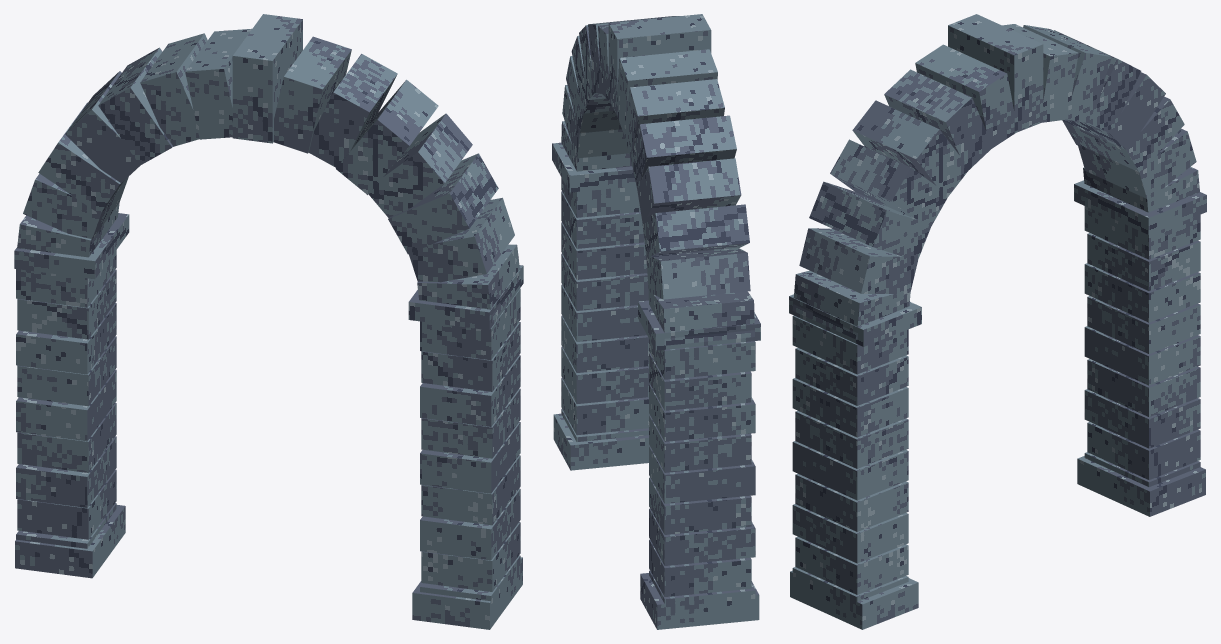
Rendered from ruinasArco.gltf.
The picture shows the model from 3 angles, left to right: view 1: azimuth 30°, elevation 25°; view 2: azimuth 150°, elevation 25°; view 3: azimuth 270°, elevation 25°; orthographic projection. The views are drawn at different scales.
Visible parts, largest first — view 1: ORN-03_Arco_de_medio_punto.020-col; view 2: ORN-03_Arco_de_medio_punto.020-col; view 3: ORN-03_Arco_de_medio_punto.020-col.
Boxes of the visible parts, bbox=[...] form: ORN-03_Arco_de_medio_punto.020-col: bbox=[14, 14, 523, 629]; ORN-03_Arco_de_medio_punto.020-col: bbox=[552, 14, 760, 629]; ORN-03_Arco_de_medio_punto.020-col: bbox=[789, 14, 1206, 629].
Bounding box in the file's own units: 2.56 × 3.6 × 2.67.
1 material, 1 textured.
